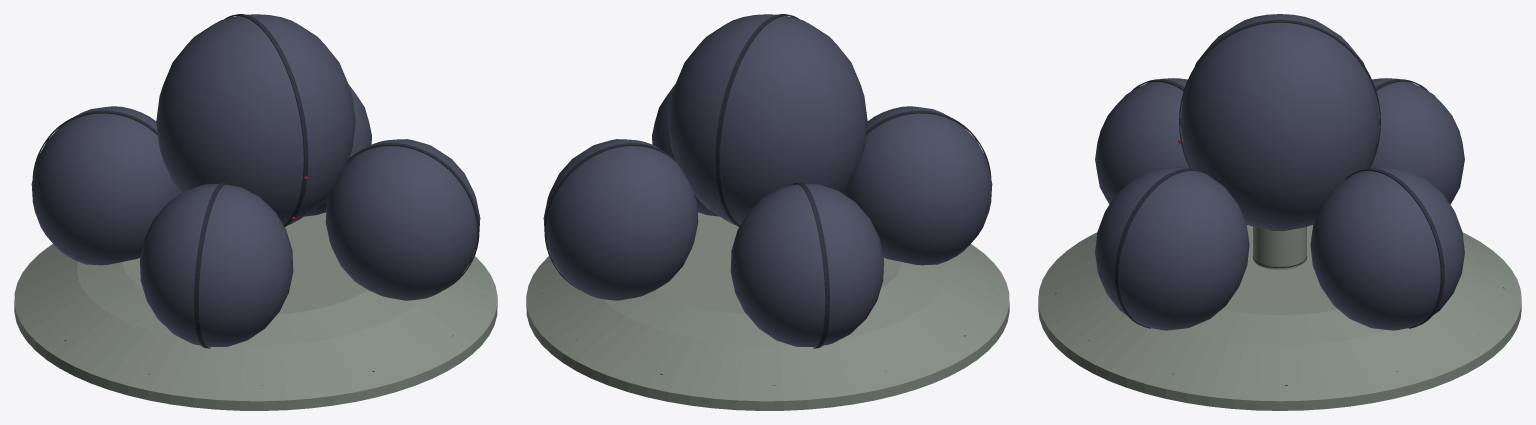
File: asteroid-engines.glb
3 views of the same model, side by side, from view 1: azimuth 30°, elevation 25°; view 2: azimuth 150°, elevation 25°; view 3: azimuth 270°, elevation 25° (orthographic).
Visible parts, largest first — view 1: Research flared asteroid mounting cone, Central segmented field orb, Research opposing generator 3, Research opposing generator 2, Research opposing generator 1, Central sphere narrow meridian, Research opposing generator 0, Generator narrow meridian 2, Generator narrow meridian 3, Generator narrow meridian 1; view 2: Research flared asteroid mounting cone, Central segmented field orb, Research opposing generator 0, Research opposing generator 1, Research opposing generator 2, Central sphere narrow meridian, Research opposing generator 3, Generator narrow meridian 1, Generator narrow meridian 0, Generator narrow meridian 2; view 3: Research flared asteroid mounting cone, Central segmented field orb, Research opposing generator 0, Research opposing generator 3, Research opposing generator 1, Research opposing generator 2, Central reactor mounting stem, Central sphere narrow meridian, Generator narrow meridian 0, Generator narrow meridian 3.
Boxes of the visible parts, bbox=[...] form: Research flared asteroid mounting cone: bbox=[14, 212, 497, 410]; Central segmented field orb: bbox=[156, 14, 355, 224]; Research opposing generator 3: bbox=[325, 139, 480, 300]; Research opposing generator 2: bbox=[140, 184, 293, 346]; Research opposing generator 1: bbox=[31, 106, 181, 265]; Central sphere narrow meridian: bbox=[225, 14, 308, 226]; Research opposing generator 0: bbox=[304, 84, 371, 216]; Generator narrow meridian 2: bbox=[194, 182, 230, 348]; Generator narrow meridian 3: bbox=[327, 143, 479, 290]; Generator narrow meridian 1: bbox=[32, 110, 157, 178]; Research flared asteroid mounting cone: bbox=[526, 212, 1009, 410]; Central segmented field orb: bbox=[668, 14, 867, 224]; Research opposing generator 0: bbox=[543, 139, 698, 300]; Research opposing generator 1: bbox=[730, 184, 883, 346]; Research opposing generator 2: bbox=[842, 106, 992, 265]; Central sphere narrow meridian: bbox=[715, 14, 798, 226]; Research opposing generator 3: bbox=[652, 84, 719, 216]; Generator narrow meridian 1: bbox=[793, 182, 829, 348]; Generator narrow meridian 0: bbox=[544, 143, 696, 290]; Generator narrow meridian 2: bbox=[866, 110, 991, 178]; Research flared asteroid mounting cone: bbox=[1038, 225, 1521, 410]; Central segmented field orb: bbox=[1180, 14, 1379, 230]; Research opposing generator 0: bbox=[1310, 167, 1464, 330]; Research opposing generator 3: bbox=[1095, 167, 1249, 330]; Research opposing generator 1: bbox=[1370, 78, 1464, 204]; Research opposing generator 2: bbox=[1095, 78, 1189, 204]; Central reactor mounting stem: bbox=[1253, 227, 1306, 269]; Central sphere narrow meridian: bbox=[1179, 19, 1380, 168]; Generator narrow meridian 0: bbox=[1345, 168, 1444, 328]; Generator narrow meridian 3: bbox=[1115, 168, 1214, 328].
Bounding box in the file's own units: 2.7 × 1.77 × 2.7.
